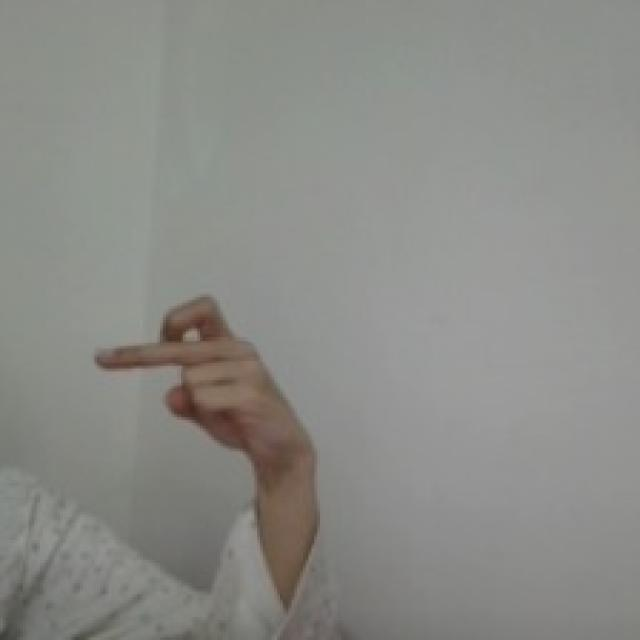sunday: (86, 287, 307, 469)
